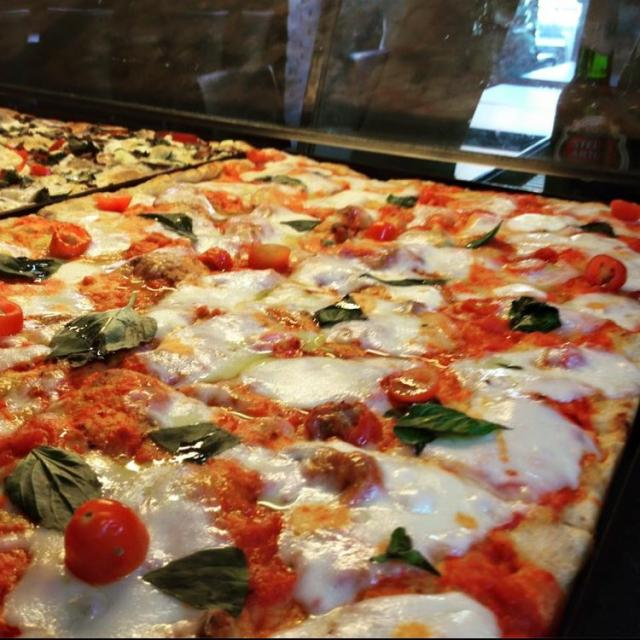basil: (370, 394, 516, 464), (138, 540, 257, 623), (4, 438, 109, 530), (46, 294, 166, 364), (146, 414, 246, 468), (364, 524, 448, 581), (2, 245, 64, 294), (137, 204, 207, 246), (506, 289, 563, 337), (355, 262, 449, 289), (136, 205, 203, 241), (303, 290, 361, 331), (570, 214, 625, 242), (467, 221, 503, 254), (258, 172, 310, 192), (278, 214, 326, 234), (382, 189, 419, 213)
pizza: (0, 149, 640, 639)
tomatoes: (59, 494, 149, 590), (309, 397, 383, 448), (377, 358, 443, 414), (573, 243, 629, 300), (38, 218, 98, 263), (362, 204, 402, 247), (245, 234, 288, 272), (192, 244, 235, 280), (85, 187, 136, 214), (2, 294, 30, 342), (613, 199, 640, 237)
